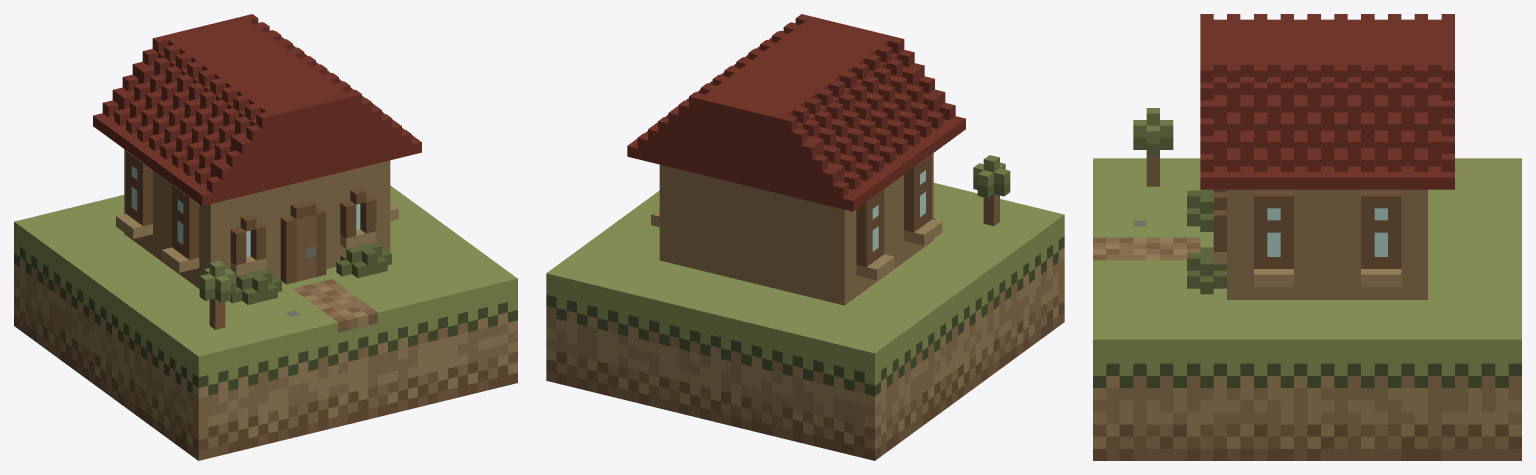
The model's file is Overworld_Land_11.obj.
3 renders of one model, left to right at view 1: azimuth 30°, elevation 25°; view 2: azimuth 150°, elevation 25°; view 3: azimuth 270°, elevation 25°, orthographic. The views are drawn at different scales.
Bounding box in the file's own units: 3.2 × 2.7 × 3.2.
1 material, 1 textured.
